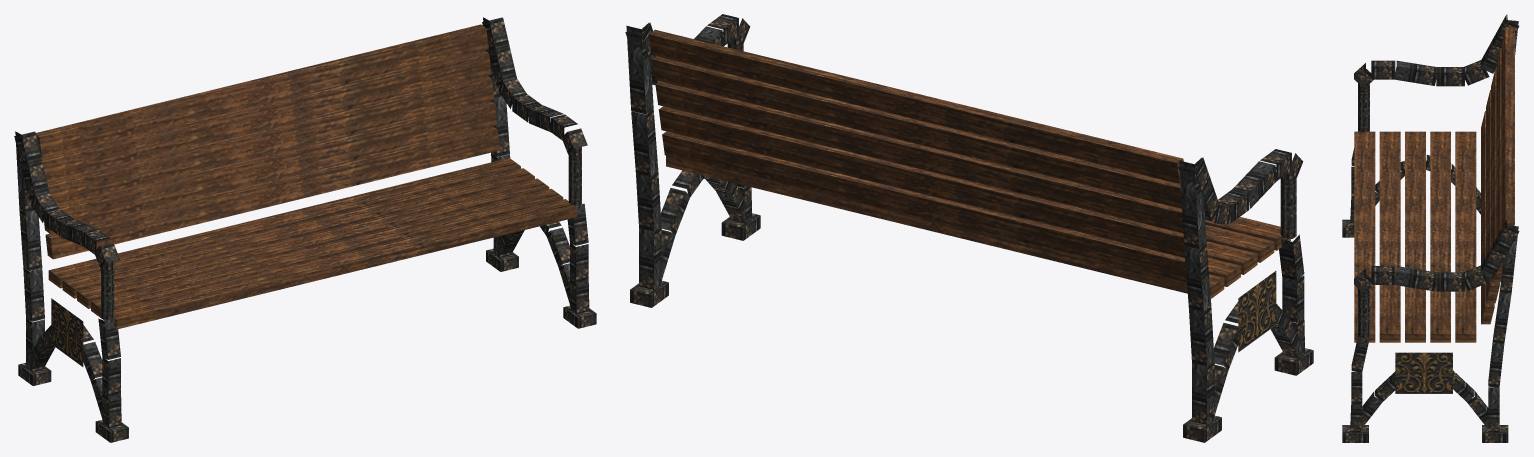
The model's file is station_bench.glb.
3 views of the same model, side by side, from view 1: azimuth 30°, elevation 25°; view 2: azimuth 150°, elevation 25°; view 3: azimuth 270°, elevation 25° (orthographic). The views are drawn at different scales.
Parts seen in each view (by area): view 1: station_bench; view 2: station_bench; view 3: station_bench.
Part boxes in pixels (box(x1,y1,x2,y2)): station_bench: box(14, 17, 596, 442); station_bench: box(625, 14, 1313, 442); station_bench: box(1342, 14, 1519, 442).
Bounding box in the file's own units: 2.1 × 0.9934 × 0.7368.
3 materials, 3 textured.
